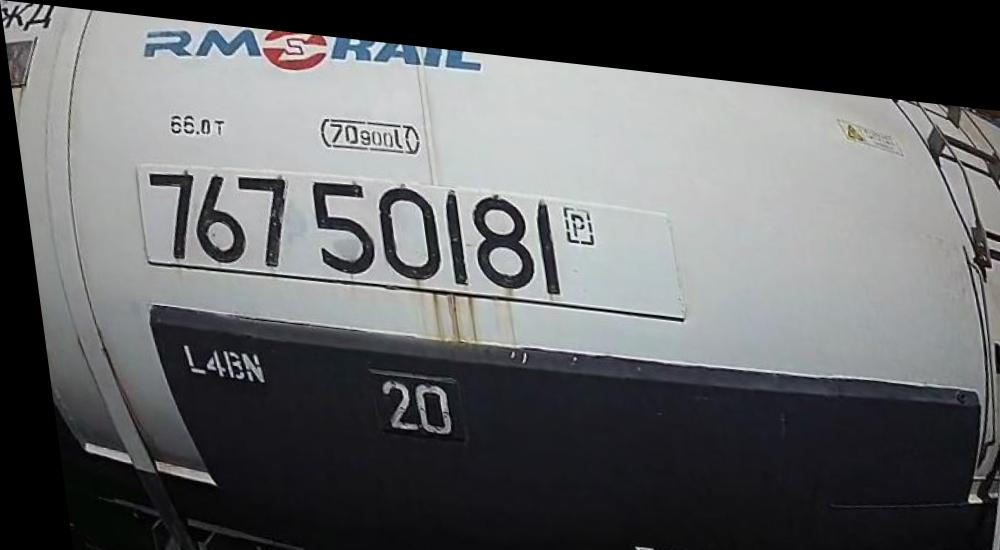Wagon-number: (136, 149, 563, 295)
